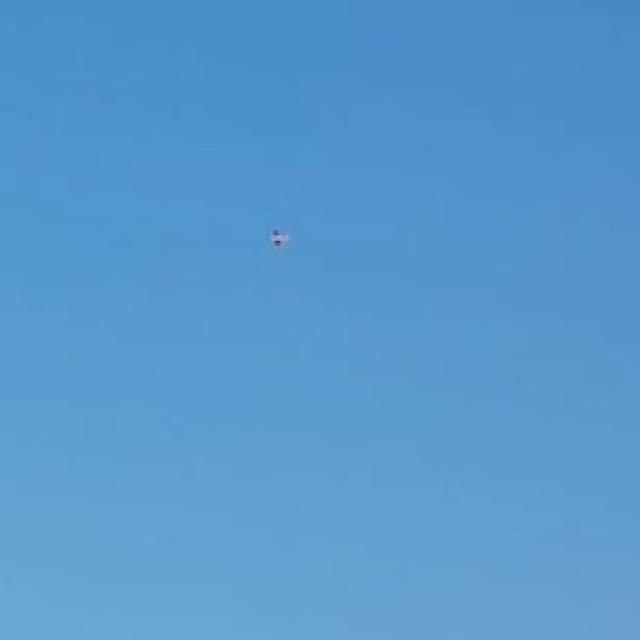iha: (263, 216, 295, 257)
